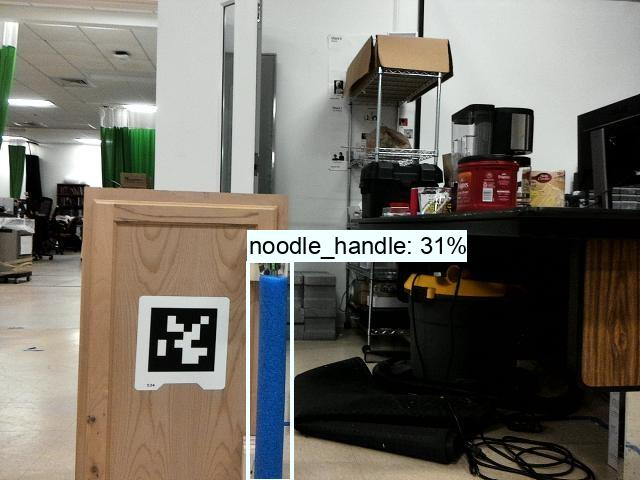noodle_handle: (252, 263, 295, 480)
